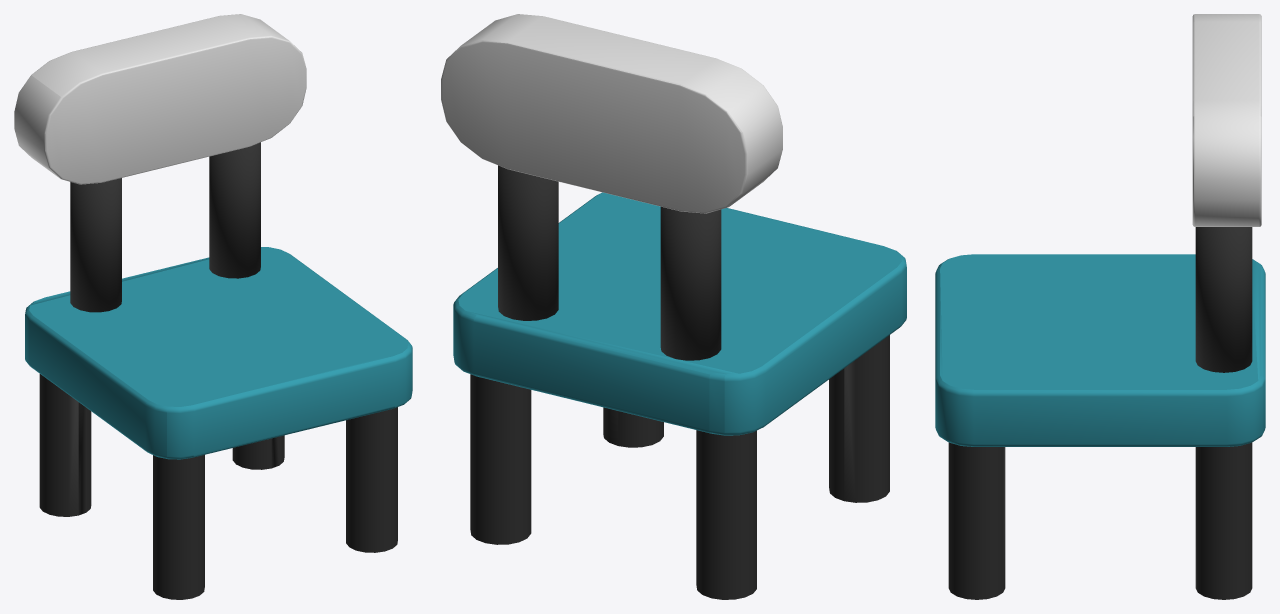
File: yizi_01.FBX
The picture shows the model from 3 angles, left to right: view 1: azimuth 30°, elevation 25°; view 2: azimuth 150°, elevation 25°; view 3: azimuth 270°, elevation 25°; orthographic projection. The views are drawn at different scales.
Parts seen in each view (by area): view 1: yizi_01; view 2: yizi_01; view 3: yizi_01.
Boxes of the visible parts, x1,y1,x2,y2 form: yizi_01: (14, 14, 412, 599); yizi_01: (441, 14, 906, 599); yizi_01: (935, 14, 1265, 599).
Bounding box in the file's own units: 30 × 47.67 × 30.
